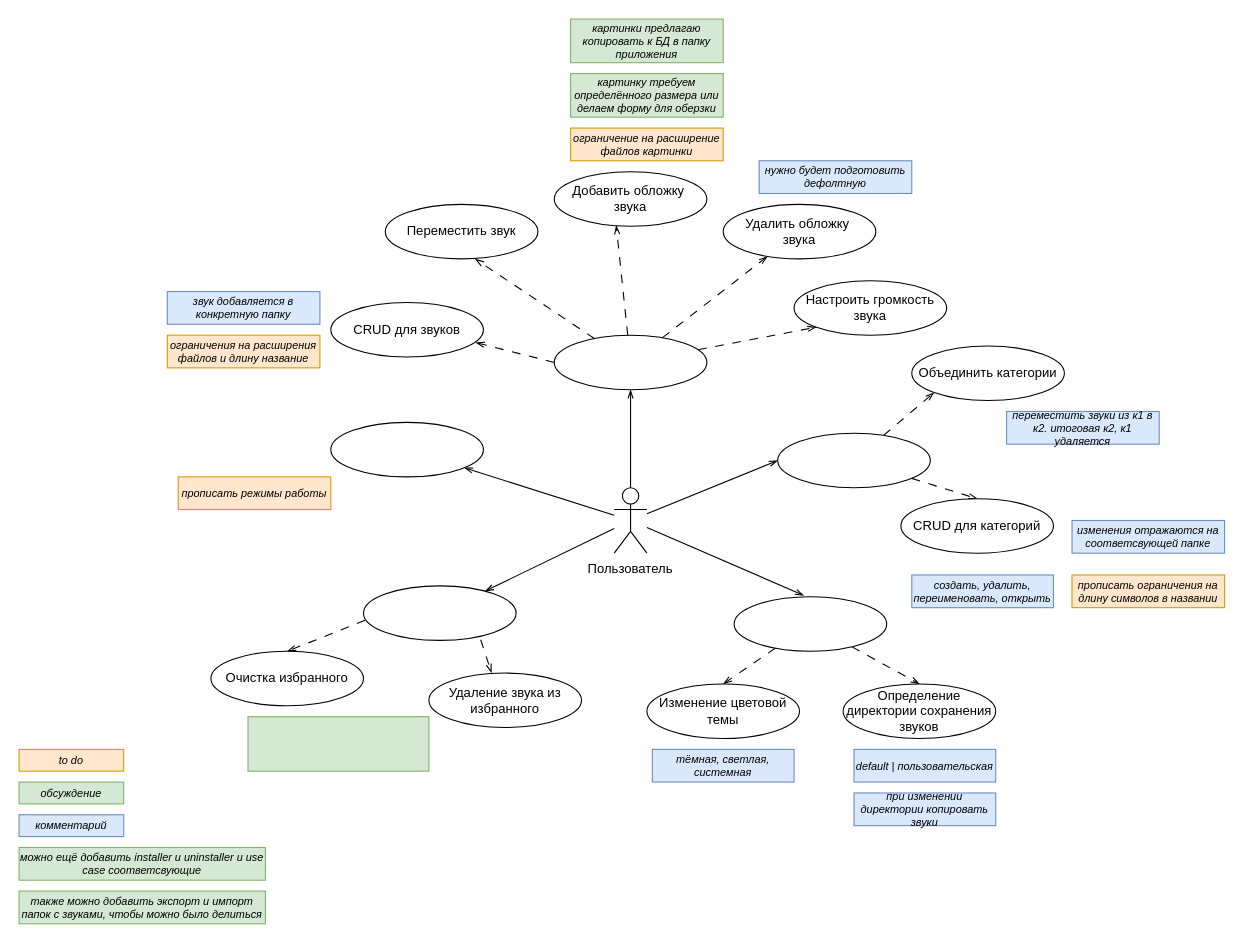
This 1244x943 diagram has some shape labels left out. Each missing label, with the centre of its shape:
"звук в избранном остаётся в исходной папке или нет? будет влиять на удаление" goes at (x=338, y=743).
"Изменение настроек приложения" goes at (x=810, y=623).
"Изменение режима работы" goes at (x=406, y=449).
"Управление звуками" goes at (x=630, y=362).
"Управление избранным" goes at (x=439, y=612).
"Управление категориями" goes at (x=853, y=460).
